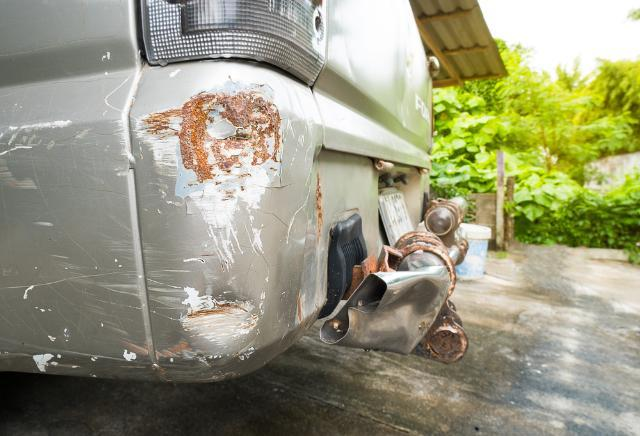dent: (183, 292, 251, 348)
scratch: (0, 114, 157, 382), (137, 75, 288, 318), (158, 336, 231, 384)
